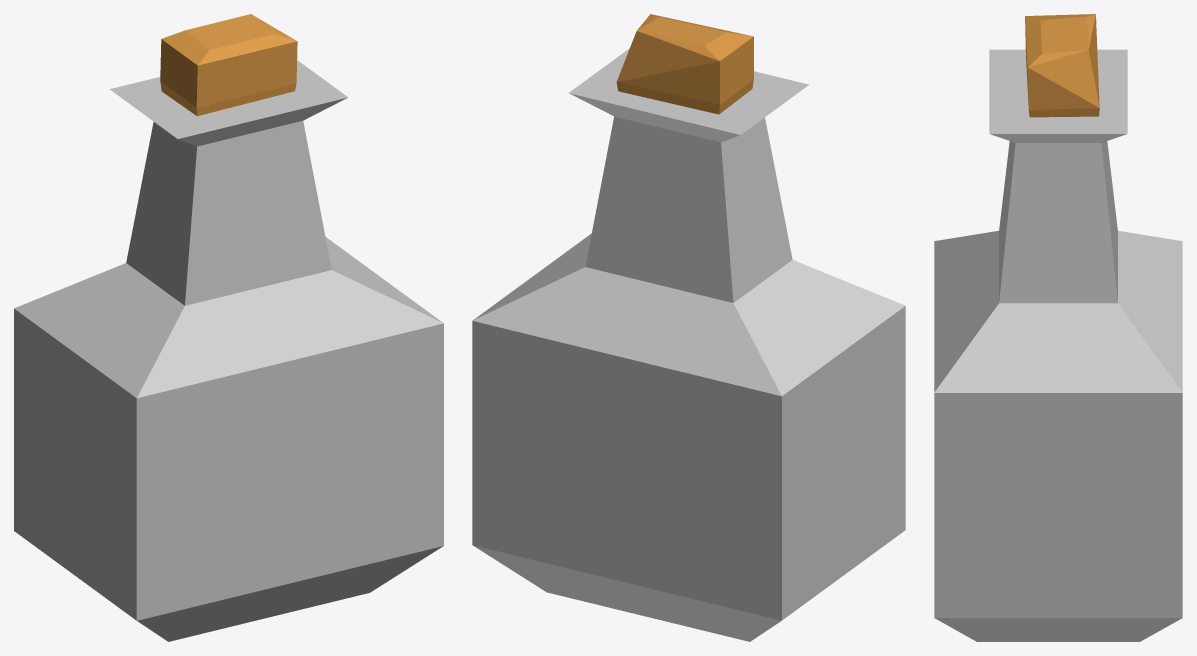
File: potion_vermelha.fbx
3 renders of one model, left to right at view 1: azimuth 30°, elevation 25°; view 2: azimuth 150°, elevation 25°; view 3: azimuth 270°, elevation 25°, orthographic.
Visible parts, largest first — view 1: mesh_316592604, mesh_1361642280; view 2: mesh_316592604, mesh_1361642280; view 3: mesh_316592604, mesh_1361642280.
Part boxes in pixels (left/top/right/bottom): mesh_316592604: left=14, top=60, right=443, bottom=641; mesh_1361642280: left=160, top=14, right=297, bottom=116; mesh_316592604: left=472, top=48, right=905, bottom=641; mesh_1361642280: left=616, top=14, right=753, bottom=114; mesh_316592604: left=934, top=49, right=1182, bottom=641; mesh_1361642280: left=1025, top=14, right=1099, bottom=117.
Size of the model in its own units: 13 by 22.43 by 9.
